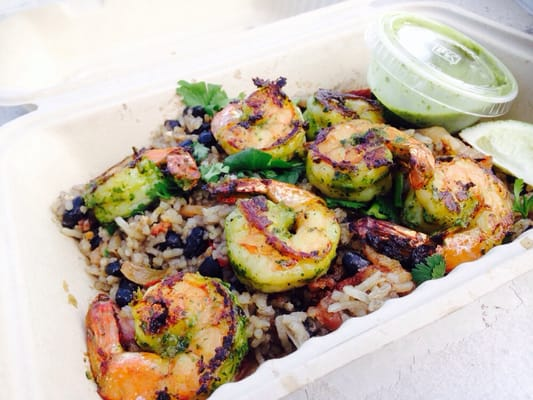curry: (84, 157, 176, 225)
sushi: (366, 9, 520, 133)
